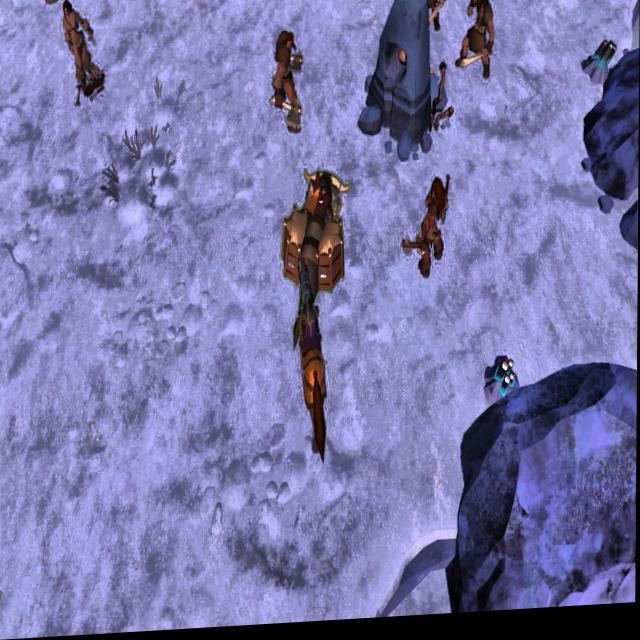enemy_factionKeeper: (403, 172, 453, 286), (269, 32, 305, 139), (458, 0, 497, 91), (59, 3, 98, 89), (416, 0, 449, 38)
ore_t4: (587, 40, 618, 81), (493, 362, 523, 401)
